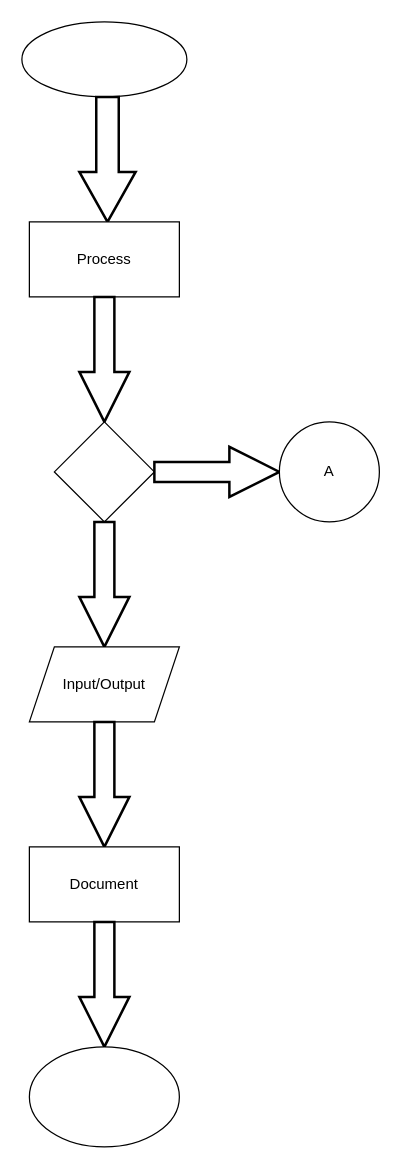
This 401x1169 diagram has some shape labels left out. The centre of each missing label's shape, as x and y in pixels:
Decision: the point at 103,471
Start: the point at 104,59
